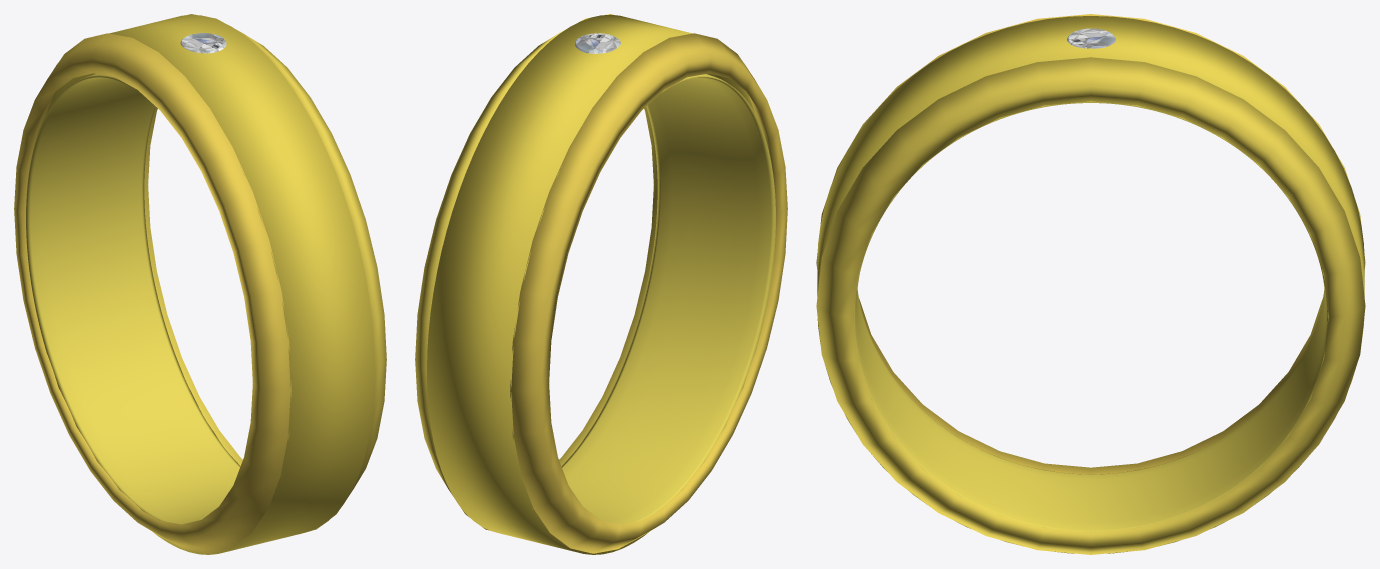
File: ringchanfcompedra.glb
3 views of the same model, side by side, from view 1: azimuth 30°, elevation 25°; view 2: azimuth 150°, elevation 25°; view 3: azimuth 270°, elevation 25° (orthographic). The views are drawn at different scales.
Visible parts, largest first — view 1: Circle, Cone; view 2: Circle, Cone; view 3: Circle, Cone.
Part boxes in pixels (box(x1,y1,x2,y2)): Circle: box(14, 14, 386, 554); Cone: box(180, 33, 226, 53); Circle: box(415, 14, 787, 554); Cone: box(575, 33, 620, 53); Circle: box(816, 14, 1365, 554); Cone: box(1067, 28, 1115, 48).
Size of the model in its own units: 0.5139 by 1.89 by 1.88.
5 materials, 1 textured.
